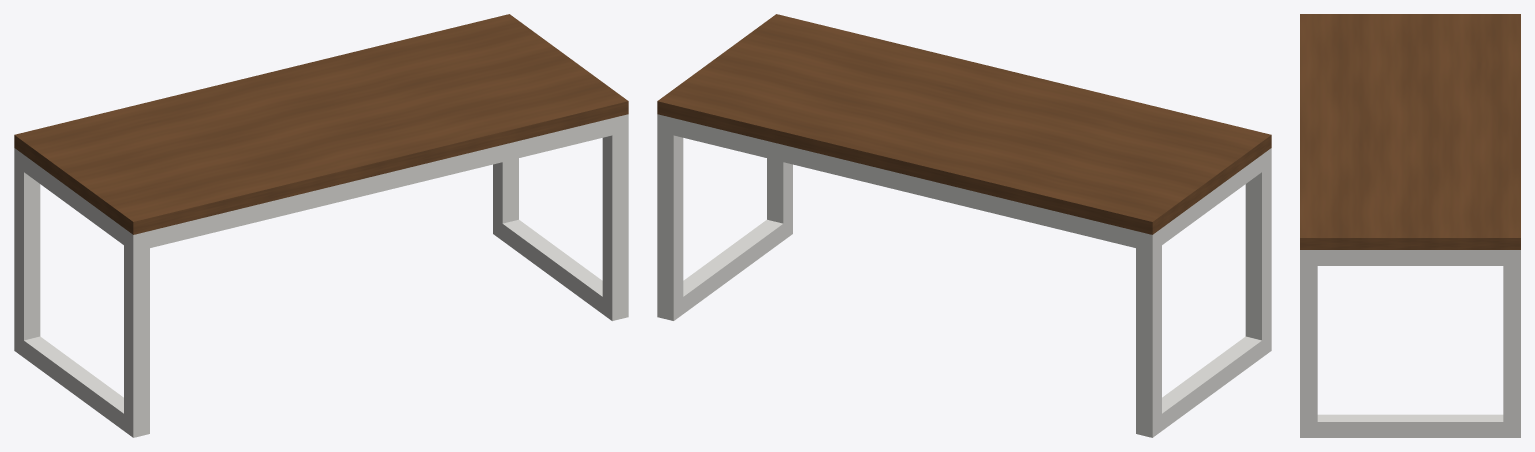
The model's file is mesa-living-nord-nogal-blanco-4cm.glb.
3 views of the same model, side by side, from view 1: azimuth 30°, elevation 25°; view 2: azimuth 150°, elevation 25°; view 3: azimuth 270°, elevation 25° (orthographic). The views are drawn at different scales.
Parts seen in each view (by area): view 1: Tapa de madera maciza 120 x 50 cm, Pata recta de hierro 4 x 4 cm (×4), Larguero longitudinal superior recto, Travesaño inferior recto (×2), Travesaño superior recto; view 2: Tapa de madera maciza 120 x 50 cm, Pata recta de hierro 4 x 4 cm (×4), Larguero longitudinal superior recto, Travesaño inferior recto (×2), Travesaño superior recto; view 3: Tapa de madera maciza 120 x 50 cm, Pata recta de hierro 4 x 4 cm (×2), Travesaño inferior recto, Travesaño superior recto.
Boxes of the visible parts, left/top/right/bottom form: Tapa de madera maciza 120 x 50 cm: left=14, top=14, right=628, bottom=234; Pata recta de hierro 4 x 4 cm (×4): left=14, top=114, right=628, bottom=437; Larguero longitudinal superior recto: left=150, top=118, right=612, bottom=247; Travesaño inferior recto (×2): left=19, top=219, right=602, bottom=430; Travesaño superior recto: left=19, top=153, right=128, bottom=247; Tapa de madera maciza 120 x 50 cm: left=657, top=14, right=1271, bottom=234; Pata recta de hierro 4 x 4 cm (×4): left=657, top=114, right=1271, bottom=437; Larguero longitudinal superior recto: left=673, top=118, right=1135, bottom=247; Travesaño inferior recto (×2): left=679, top=219, right=1266, bottom=430; Travesaño superior recto: left=1162, top=154, right=1266, bottom=244; Tapa de madera maciza 120 x 50 cm: left=1300, top=14, right=1520, bottom=249; Pata recta de hierro 4 x 4 cm (×2): left=1300, top=250, right=1520, bottom=437; Travesaño inferior recto: left=1309, top=414, right=1511, bottom=437; Travesaño superior recto: left=1309, top=250, right=1511, bottom=265.
Bounding box in the file's own units: 1.2 × 0.5 × 0.5.
Materials: 2 (1 with a texture image).
